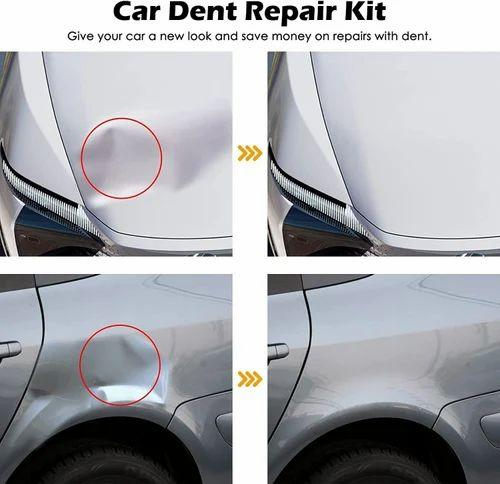dent: (61, 103, 193, 220), (59, 320, 187, 413)
